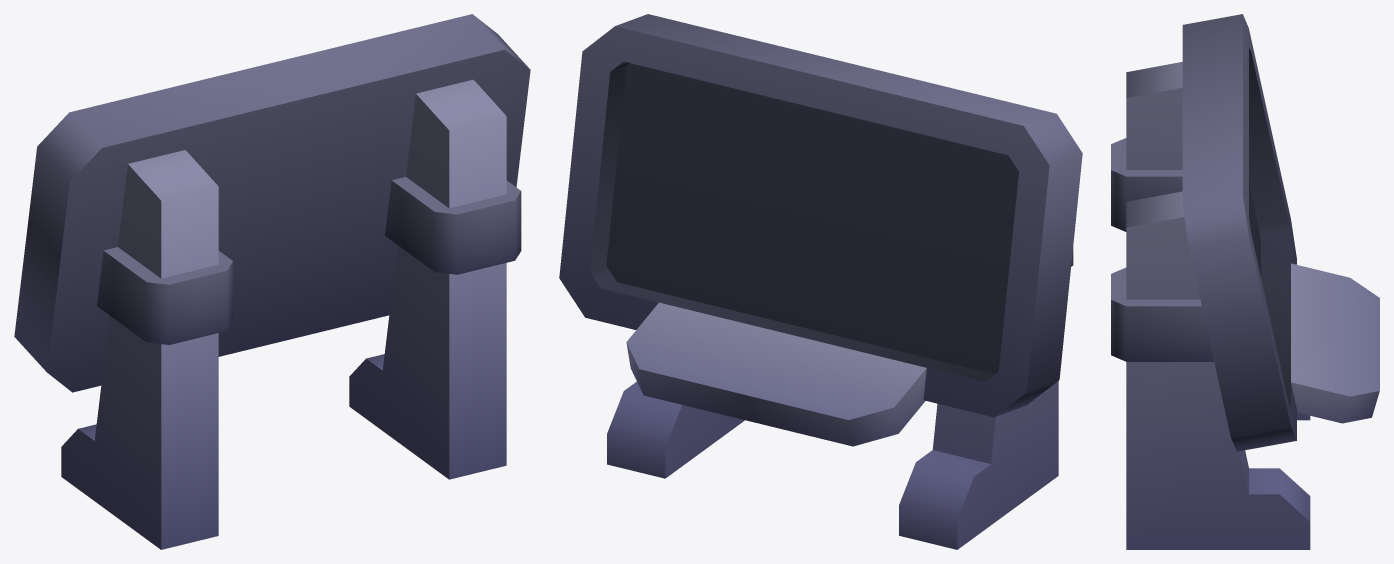
File: screen-panel-wide.glb
The picture shows the model from 3 angles, left to right: view 1: azimuth 30°, elevation 25°; view 2: azimuth 150°, elevation 25°; view 3: azimuth 270°, elevation 25°; orthographic projection. The views are drawn at different scales.
Parts seen in each view (by area): view 1: screen-panel-wide; view 2: screen-panel-wide; view 3: screen-panel-wide.
Part boxes in pixels (x1=…): screen-panel-wide: x1=14, y1=14, x2=530, y2=549; screen-panel-wide: x1=559, y1=14, x2=1082, y2=549; screen-panel-wide: x1=1111, y1=14, x2=1379, y2=549.
Bounding box in the file's own units: 1.2 × 0.9913 × 0.6572.
